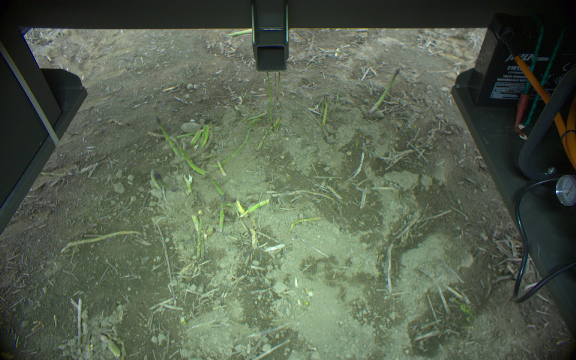aspa: (217, 119, 261, 169), (61, 228, 143, 251), (368, 65, 401, 113), (173, 138, 212, 178), (154, 116, 179, 158), (238, 197, 271, 222), (190, 215, 207, 260), (263, 72, 275, 130), (215, 190, 229, 234), (318, 94, 331, 127), (149, 165, 163, 193), (187, 126, 203, 148), (199, 119, 210, 149)
